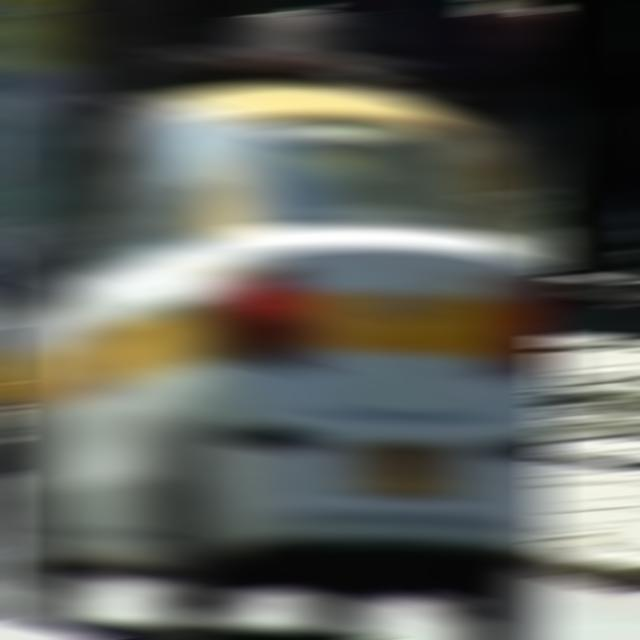Taxi: (0, 14, 555, 639)
